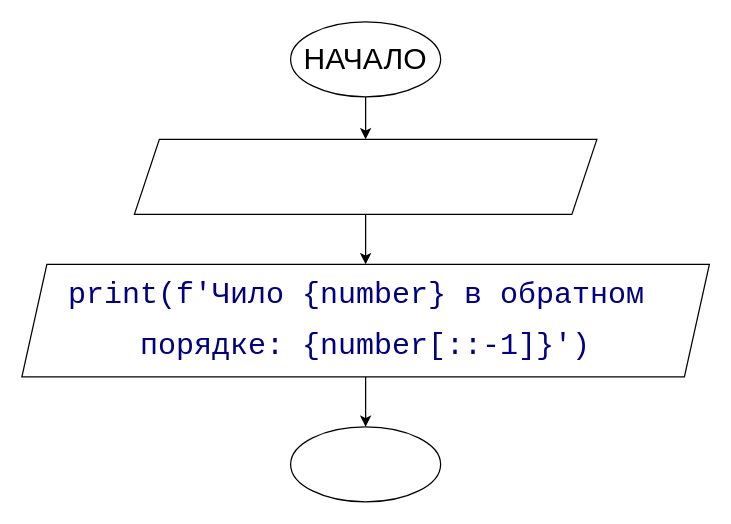
Some shapes in this 731 by 524 pixel diagram are drawn without their labels. The shapes that lost their labels are listed below. From the top down, each one's box as (x1, y1, x2, y2) in pixels, then its label:
(133, 138, 597, 214): input ( 'Введите число: ' )
(289, 426, 441, 502): КОНЕЦ
